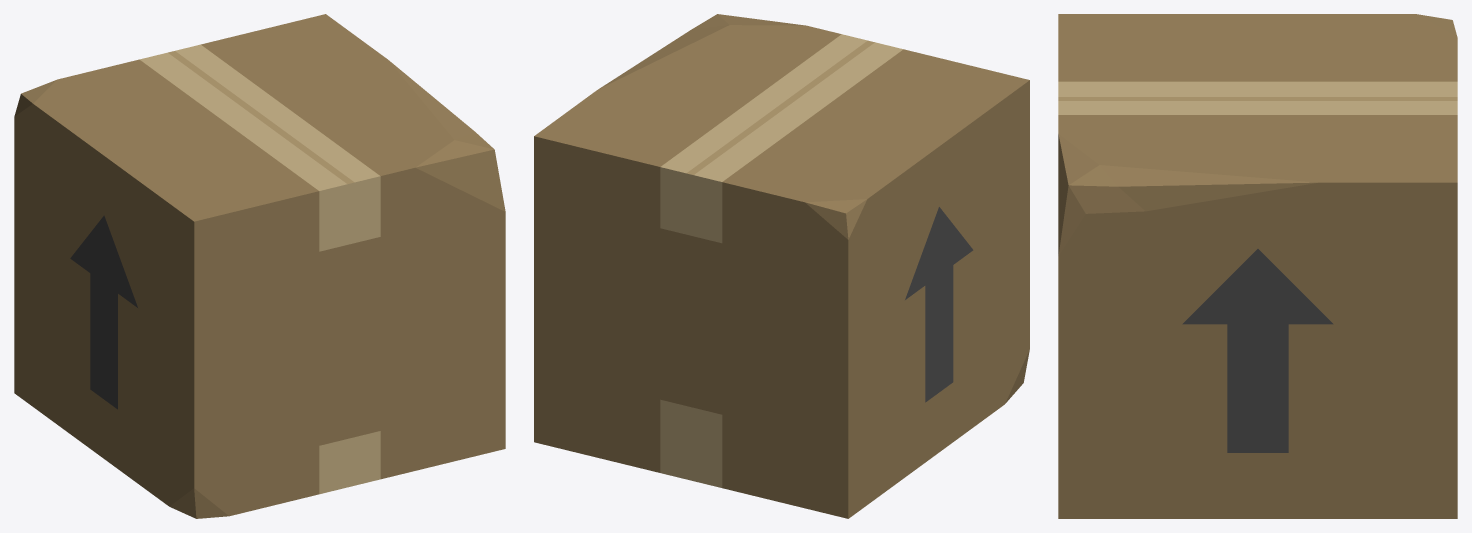
Rendered from SM_Prop_CardboardBox_01.glb.
3 renders of one model, left to right at view 1: azimuth 30°, elevation 25°; view 2: azimuth 150°, elevation 25°; view 3: azimuth 270°, elevation 25°, orthographic. The views are drawn at different scales.
Visible parts, largest first — view 1: SM_Prop_CardboardBox_01; view 2: SM_Prop_CardboardBox_01; view 3: SM_Prop_CardboardBox_01.
Part boxes in pixels (x1,y1,x2,y2): SM_Prop_CardboardBox_01: (14,14,505,518); SM_Prop_CardboardBox_01: (534,14,1029,518); SM_Prop_CardboardBox_01: (1058,14,1457,518).
Bounding box in the file's own units: 0.5 × 0.4651 × 0.5.
Materials: 1 (1 with a texture image).
